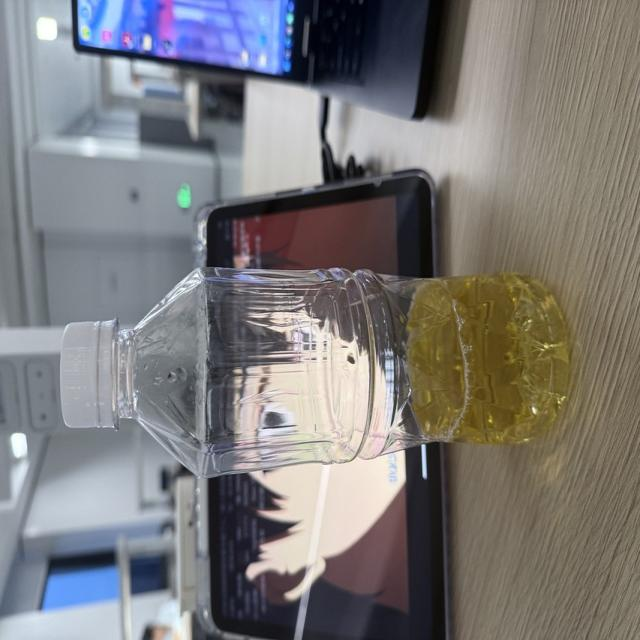low: (61, 268, 568, 476)
